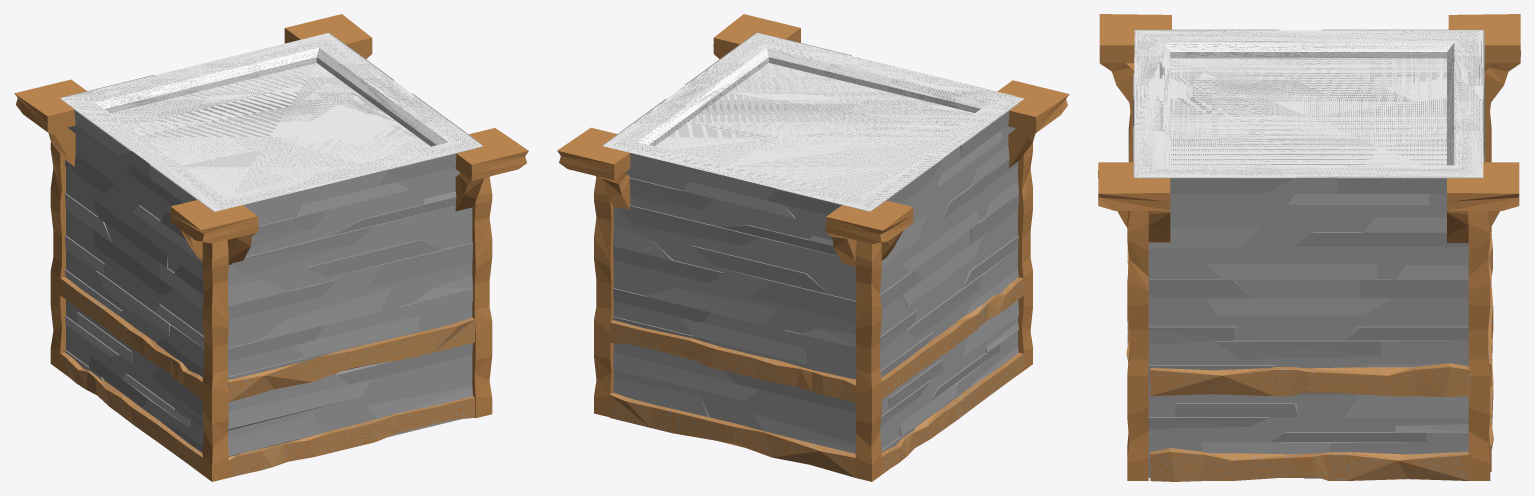
Rendered from Fund.fbx.
The picture shows the model from 3 angles, left to right: view 1: azimuth 30°, elevation 25°; view 2: azimuth 150°, elevation 25°; view 3: azimuth 270°, elevation 25°; orthographic projection. The views are drawn at different scales.
Parts seen in each view (by area): view 1: G_25_1, Group2, G_25_2, G_79_2, G_15_1, G_12_2, G_79_3, G_16_4, G_16_2, G_11_2, G_11_1, G_79_4 (+2 smaller); view 2: G_25_2, Group2, G_79_4, G_15_2, G_12_1, G_79_1, G_16_3, G_16_1, G_11_2, G_11_1, G_79_2, G_16_4 (+1 smaller); view 3: G_25_1, Group2, G_14_1, G_14_2, G_79_1, G_79_3, G_16_2, G_16_1, G_16_3, G_16_4, G_25_2, G_79_4 (+1 smaller).
Part boxes in pixels (bbox=[...]): G_25_1: bbox=[227, 32, 482, 456]; Group2: bbox=[60, 33, 482, 211]; G_25_2: bbox=[60, 75, 214, 452]; G_79_2: bbox=[202, 207, 228, 481]; G_15_1: bbox=[228, 317, 474, 402]; G_12_2: bbox=[228, 396, 474, 477]; G_79_3: bbox=[472, 145, 492, 418]; G_16_4: bbox=[170, 200, 258, 264]; G_16_2: bbox=[455, 128, 528, 211]; G_11_2: bbox=[60, 352, 202, 474]; G_11_1: bbox=[60, 277, 202, 399]; G_79_4: bbox=[50, 93, 68, 370]; G_25_2: bbox=[613, 99, 1024, 453]; Group2: bbox=[603, 33, 1024, 211]; G_79_4: bbox=[855, 207, 881, 481]; G_15_2: bbox=[609, 392, 855, 477]; G_12_1: bbox=[609, 320, 855, 402]; G_79_1: bbox=[594, 145, 613, 417]; G_16_3: bbox=[826, 200, 913, 266]; G_16_1: bbox=[557, 127, 630, 209]; G_11_2: bbox=[881, 352, 1023, 474]; G_11_1: bbox=[881, 277, 1023, 399]; G_79_2: bbox=[1014, 93, 1032, 370]; G_16_4: bbox=[997, 80, 1069, 167]; G_25_1: bbox=[1133, 73, 1482, 478]; Group2: bbox=[1134, 30, 1483, 177]; G_14_1: bbox=[1150, 363, 1470, 396]; G_14_2: bbox=[1150, 448, 1470, 481]; G_79_1: bbox=[1468, 171, 1490, 480]; G_79_3: bbox=[1127, 171, 1148, 480]; G_16_2: bbox=[1098, 162, 1170, 242]; G_16_1: bbox=[1447, 162, 1519, 242]; G_16_3: bbox=[1448, 14, 1520, 110]; G_16_4: bbox=[1099, 14, 1171, 106]; G_25_2: bbox=[1134, 29, 1484, 162]; G_79_4: bbox=[1470, 27, 1491, 232].
Bounding box in the file's own units: 2951 × 2300 × 2933.
